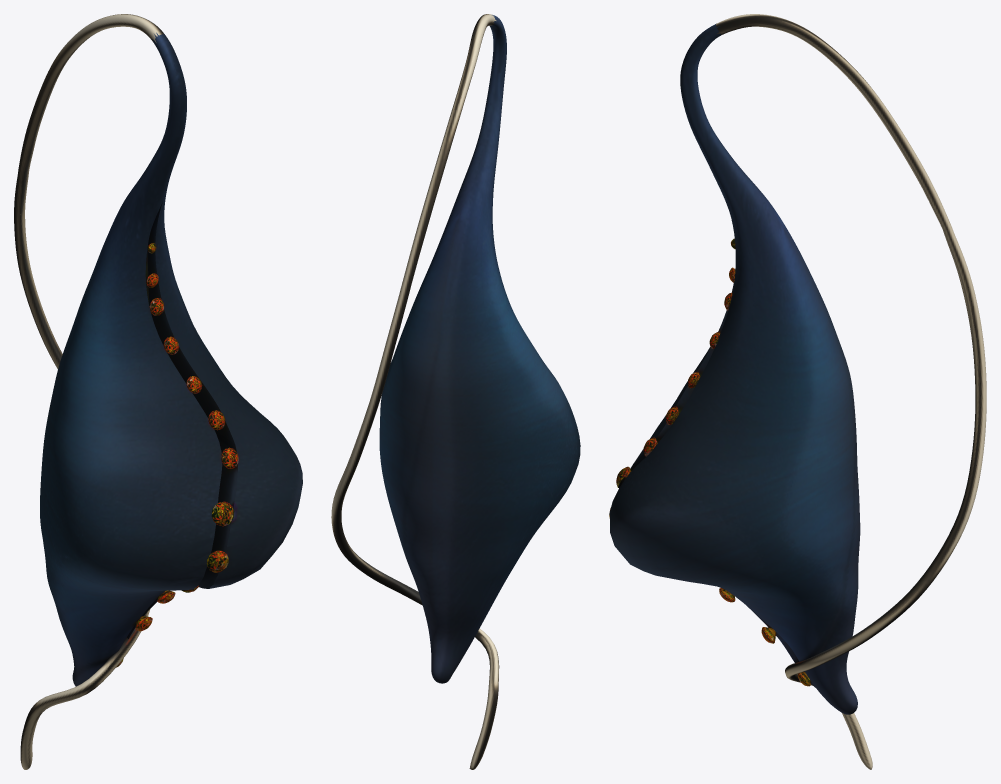
Rendered from JOYA3A.fbx.
3 renders of one model, left to right at view 1: azimuth 30°, elevation 25°; view 2: azimuth 150°, elevation 25°; view 3: azimuth 270°, elevation 25°, orthographic. The views are drawn at different scales.
Parts seen in each view (by area): view 1: JOYA3A; view 2: JOYA3A; view 3: JOYA3A.
Boxes of the visible parts, x1,y1,x2,y2 form: JOYA3A: [14, 14, 302, 769]; JOYA3A: [331, 14, 580, 769]; JOYA3A: [609, 14, 986, 769].
Size of the model in its own units: 59.97 by 219 by 96.17.
2 materials, 2 textured.
